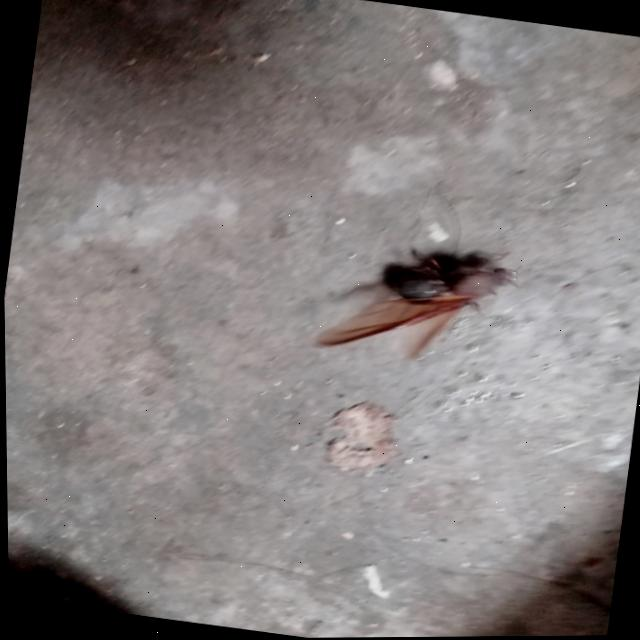Alive-Female-Alate: (312, 232, 521, 375)
